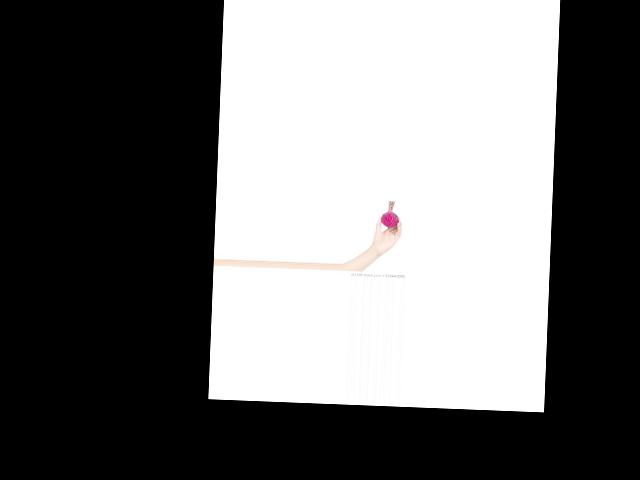beet: (381, 200, 400, 227)
